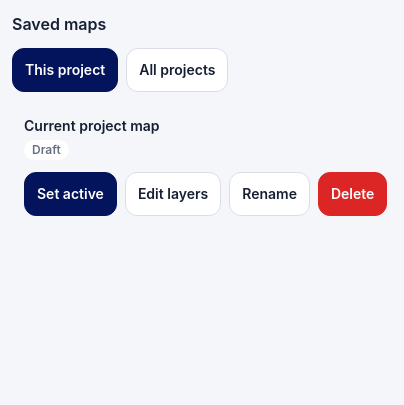
Test: SavedMapsList › switches between this-project and all-project saved maps with origin labels
Check: the heading "Current project map" is shown, box [24,116,160,136]
Check: the text "Other project map" is not shown
What coordinates should you click on to do the following:
click the button "All projects"
I would click on:
 (177, 70)
Its box is [126,48,228,92].
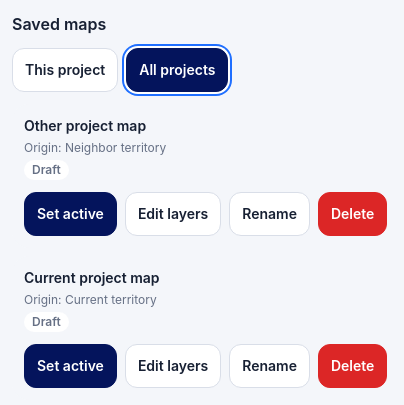
Check: the element with test id "saved-map-row" shows "Other project map", box [24,117,146,134]
Check: the element with test id "saved-map-row" shows "Origin: Neighbor territory", box [24,140,166,155]
Check: the element with test id "saved-map-row" shows "Current project map", box [24,269,160,286]
